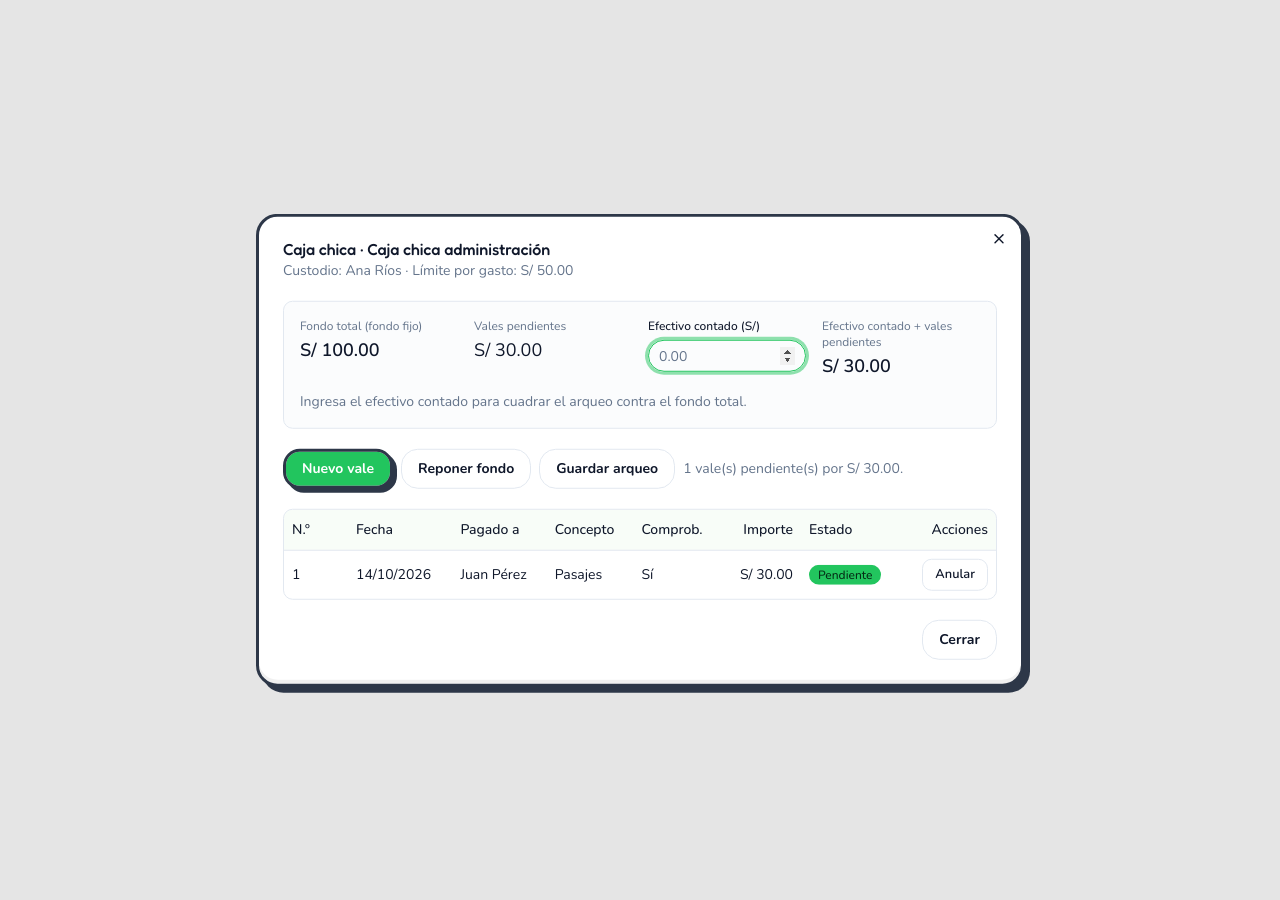
Test: PettyCashPanel › señala el faltante cuando el arqueo no llega al fondo
Expected: the text "Juan Pérez" is shown, [452,550,547,598]
Type "60" into the number field labelled "Efectivo contado (S/)" at (727, 356), box [648,340,806,372]
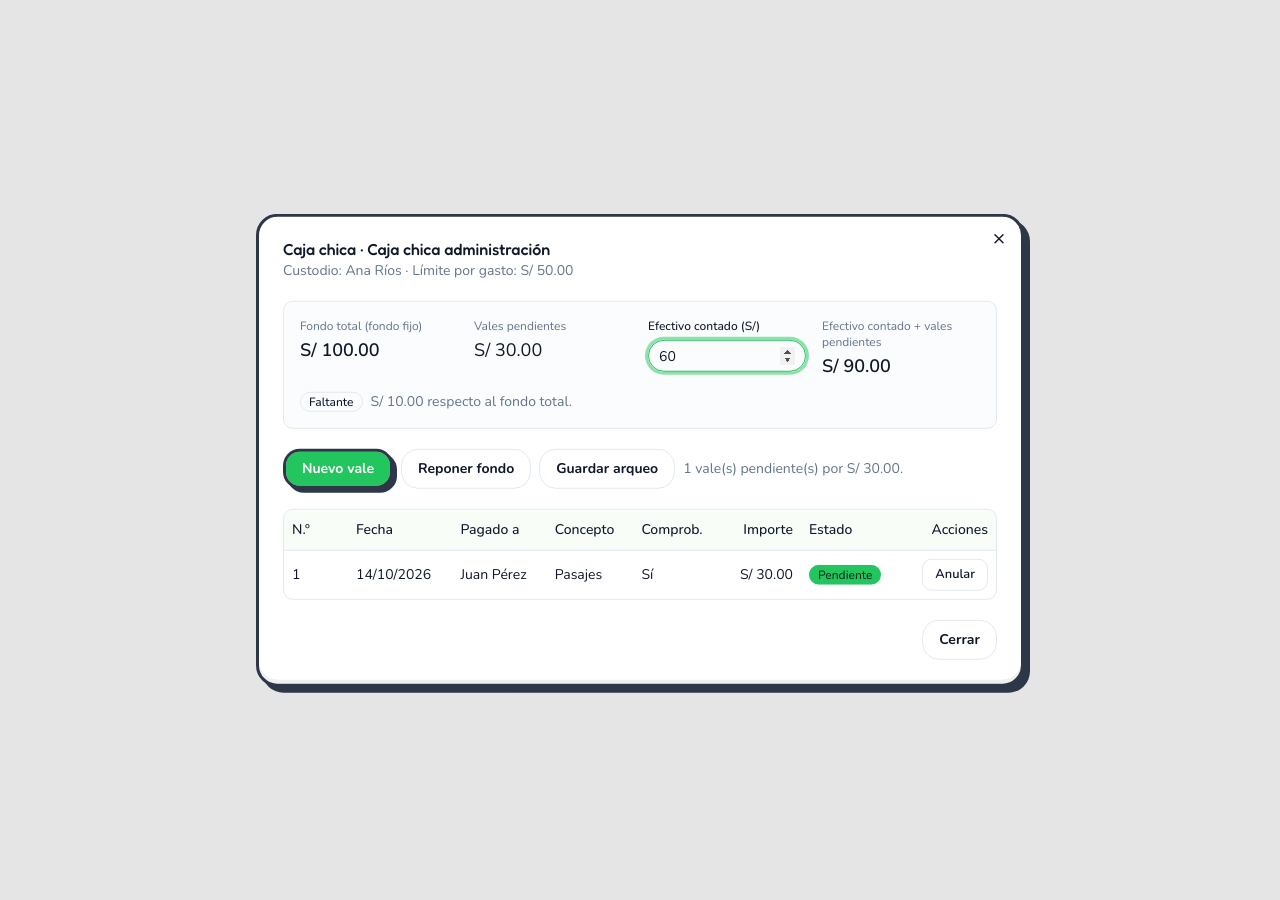
Result: the text "Faltante" is shown at [300,392,362,412]
Result: the text "S/ 10.00 respecto al fondo total." is shown at [370,392,572,412]
